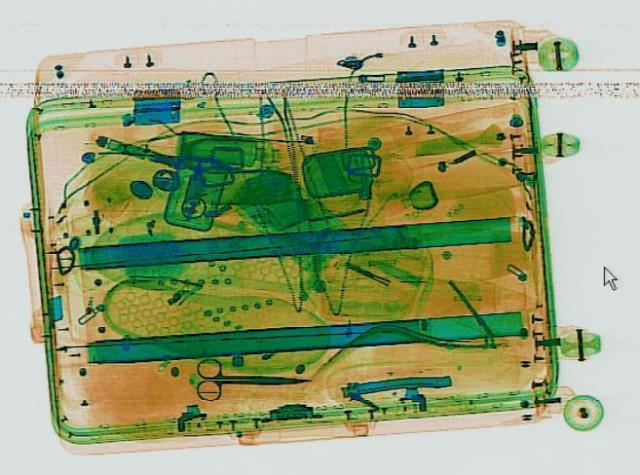Scissors: (192, 356, 310, 400)
